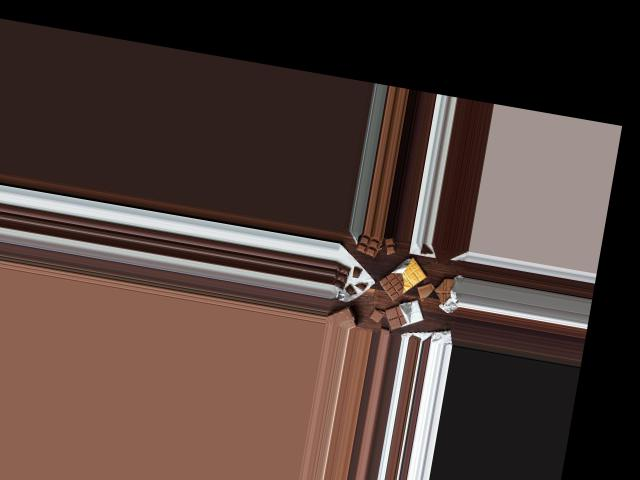chocolate: (381, 294, 424, 337)
